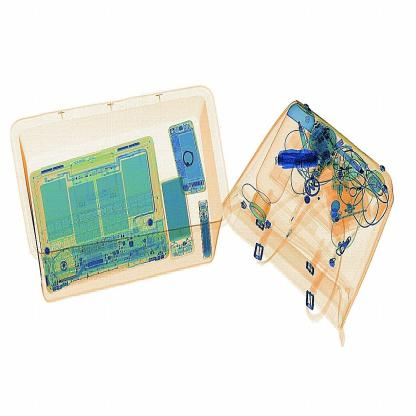scissors: (273, 147, 332, 174)
